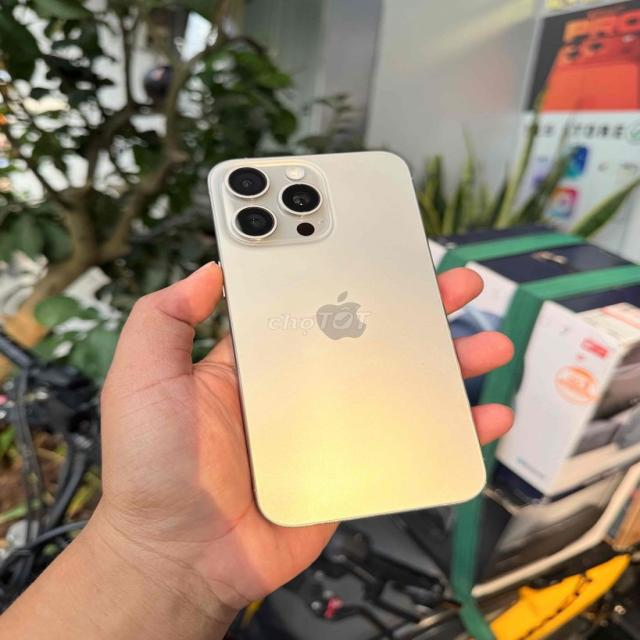gen_15: (203, 125, 488, 530)
